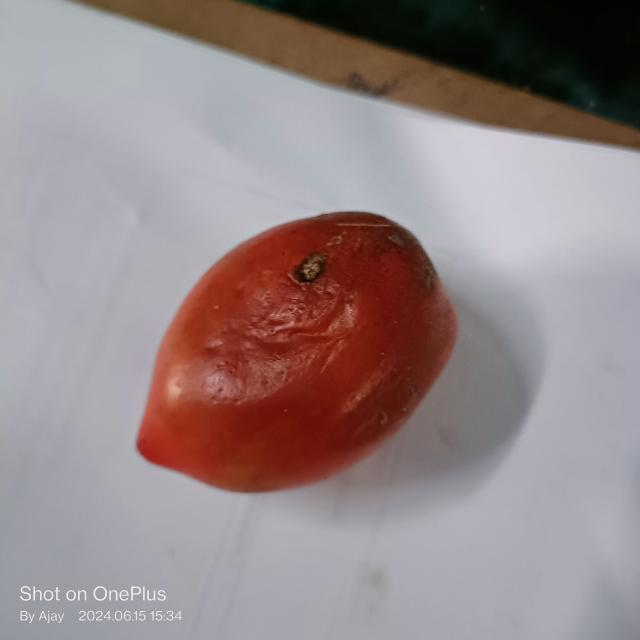Botrytis: (237, 320, 325, 364), (292, 246, 330, 286), (416, 267, 435, 290), (388, 231, 407, 253)
